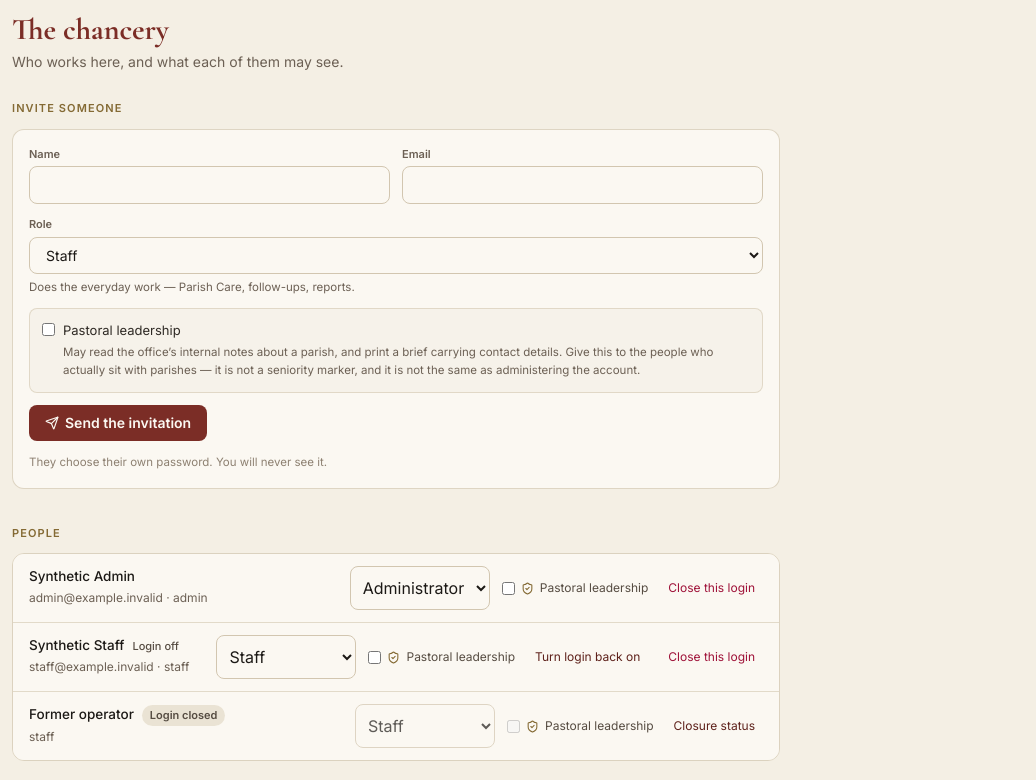
it: chancery closure controls › only a confirmed restore removes its unknown marker
Click the button "Turn login back on". click: {"x": 588, "y": 657}
box: [527,635,648,679]
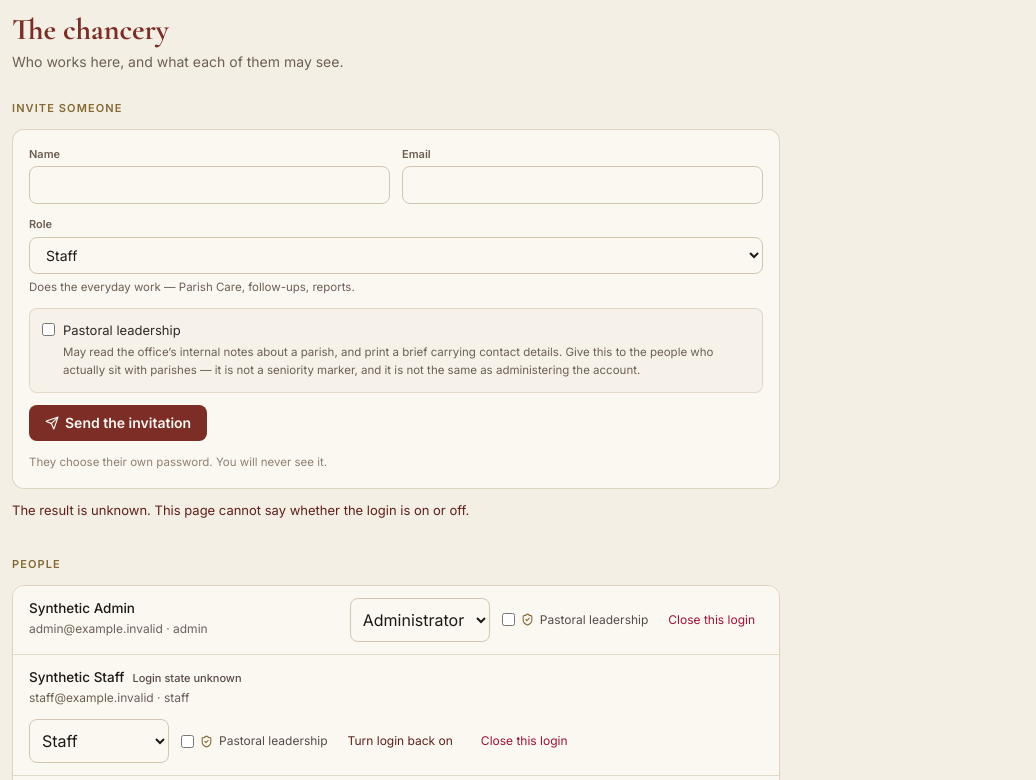
Result: the text "Login state unknown" is shown at [132,671,242,685]
Click the button "Turn login back on". click: {"x": 400, "y": 741}
box: [340,719,461,763]
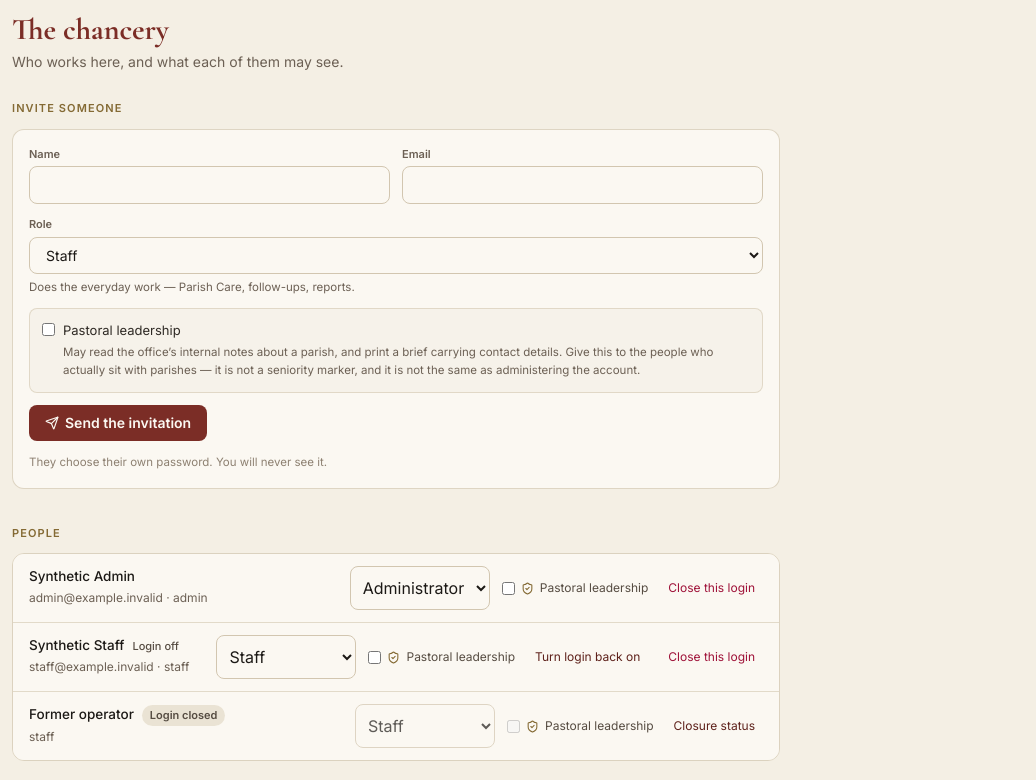
Result: the text "Login state unknown" is gone
